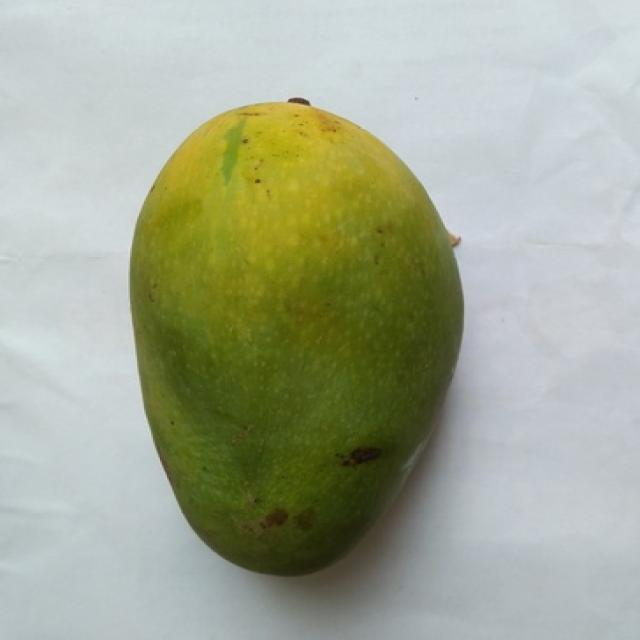Mango: (130, 103, 461, 574)
